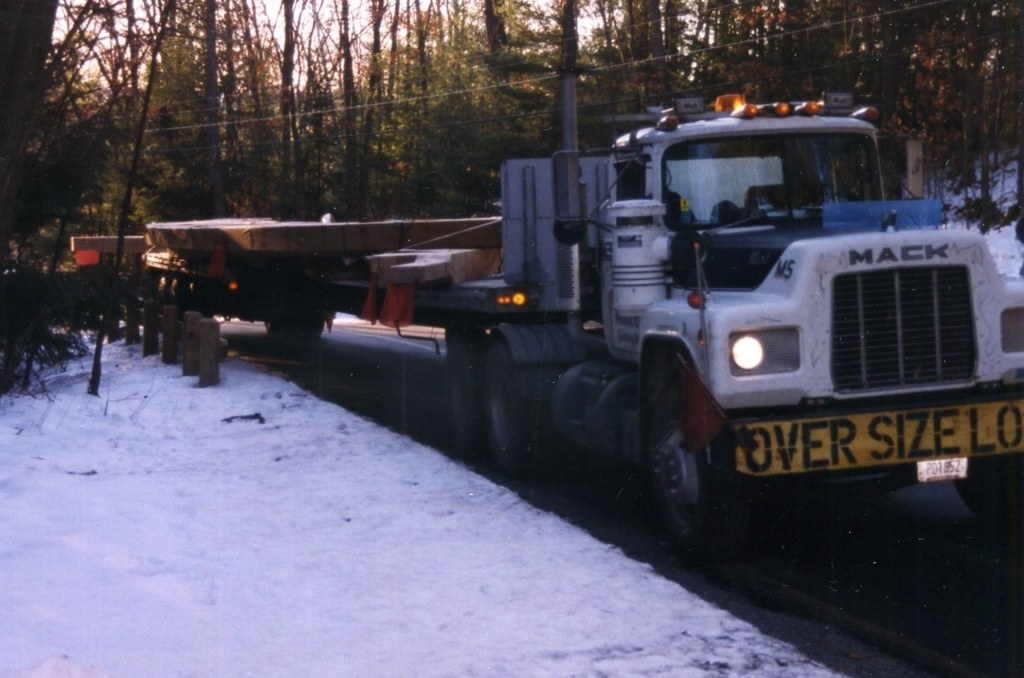Tree: (0, 0, 1024, 397)
